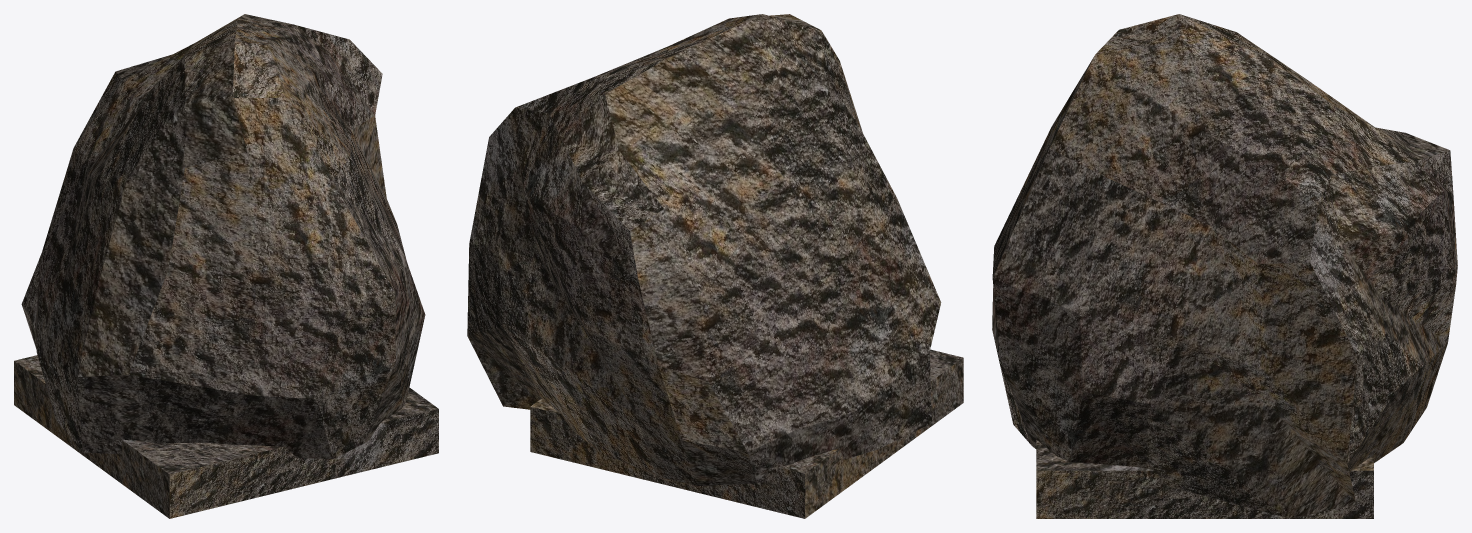
The model's file is RockWall.glb.
3 renders of one model, left to right at view 1: azimuth 30°, elevation 25°; view 2: azimuth 150°, elevation 25°; view 3: azimuth 270°, elevation 25°, orthographic. The views are drawn at different scales.
Visible parts, largest first — view 1: Cube; view 2: Cube; view 3: Cube.
Part boxes in pixels (<box>): Cube: <box>14,14,438,518</box>; Cube: <box>467,14,963,518</box>; Cube: <box>992,14,1457,518</box>.
Bounding box in the file's own units: 2.77 × 2.82 × 2.76.
Materials: 1 (1 with a texture image).
